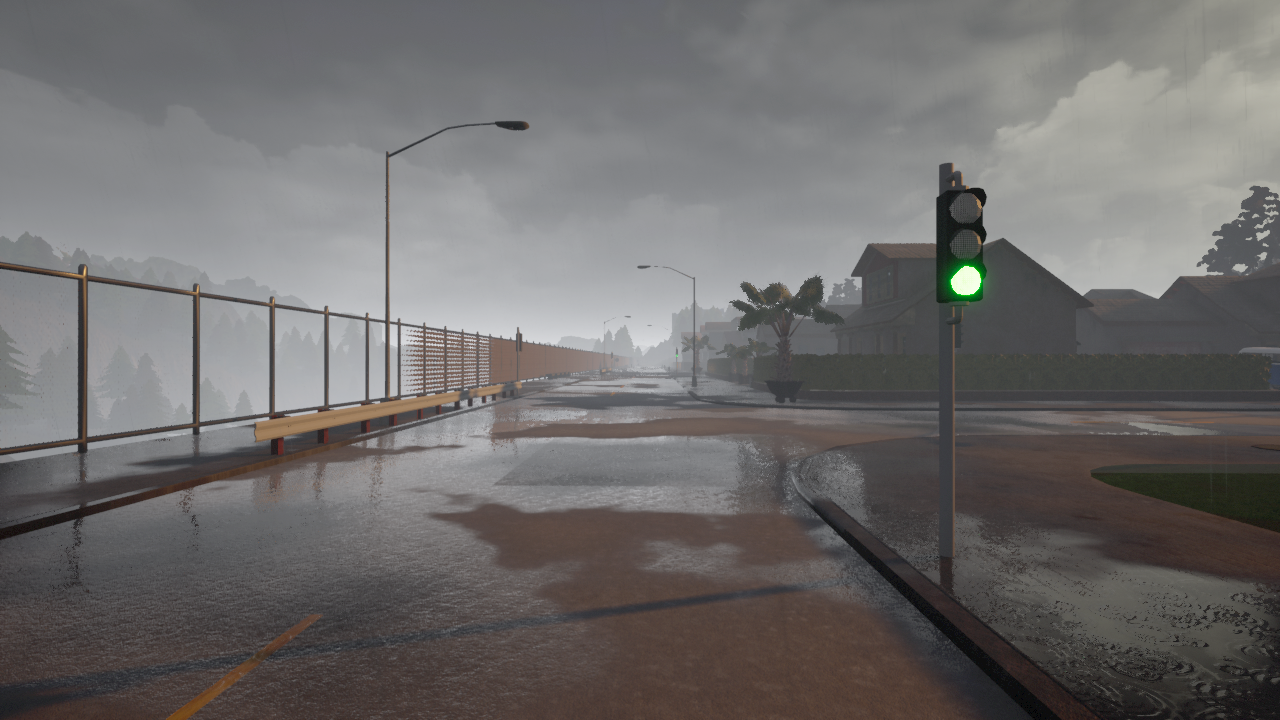green: (938, 184, 991, 314)
